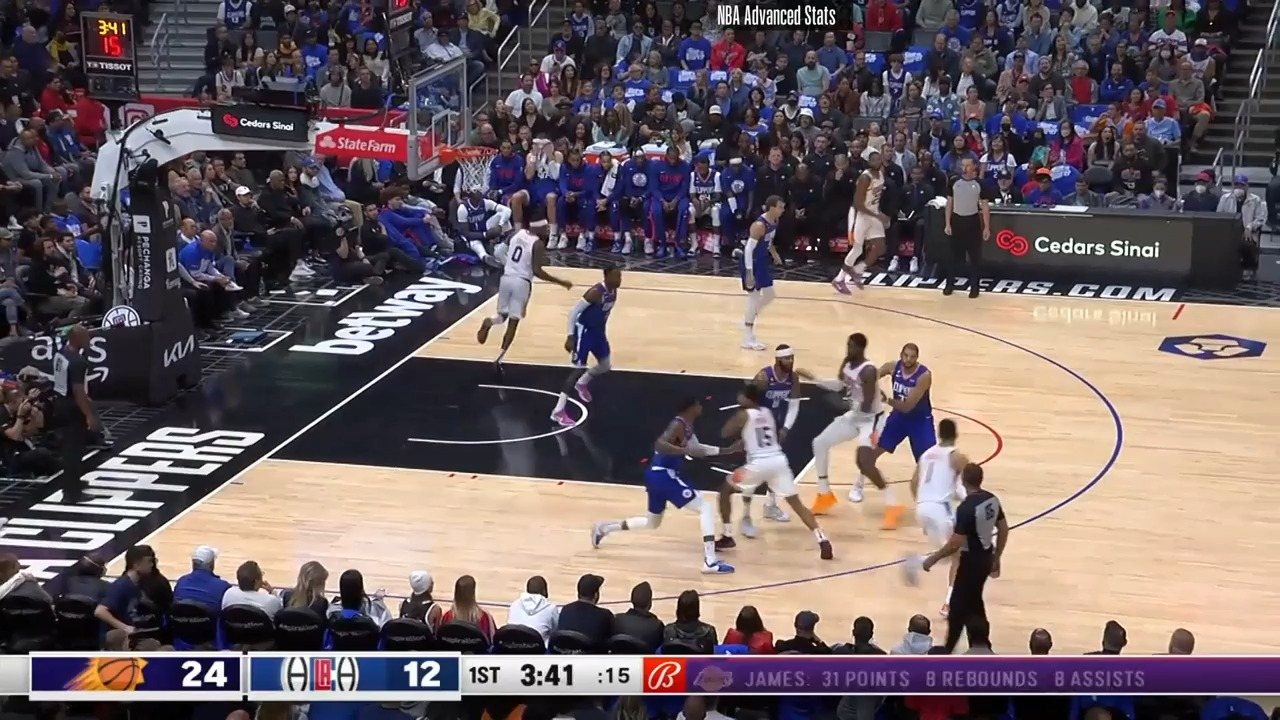net: (439, 142, 498, 193)
player: (595, 395, 749, 576), (709, 380, 829, 563), (806, 327, 899, 530), (478, 212, 577, 366), (736, 340, 812, 537), (864, 341, 944, 514), (905, 416, 982, 590), (556, 262, 629, 428), (829, 143, 891, 301), (737, 194, 786, 353)
referee: (913, 463, 1007, 654), (47, 317, 103, 506), (943, 159, 997, 304)
